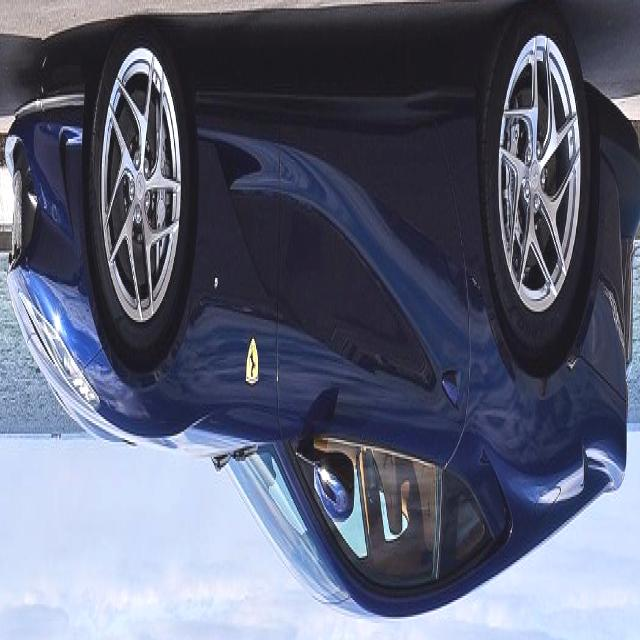blue: (0, 0, 635, 629)
